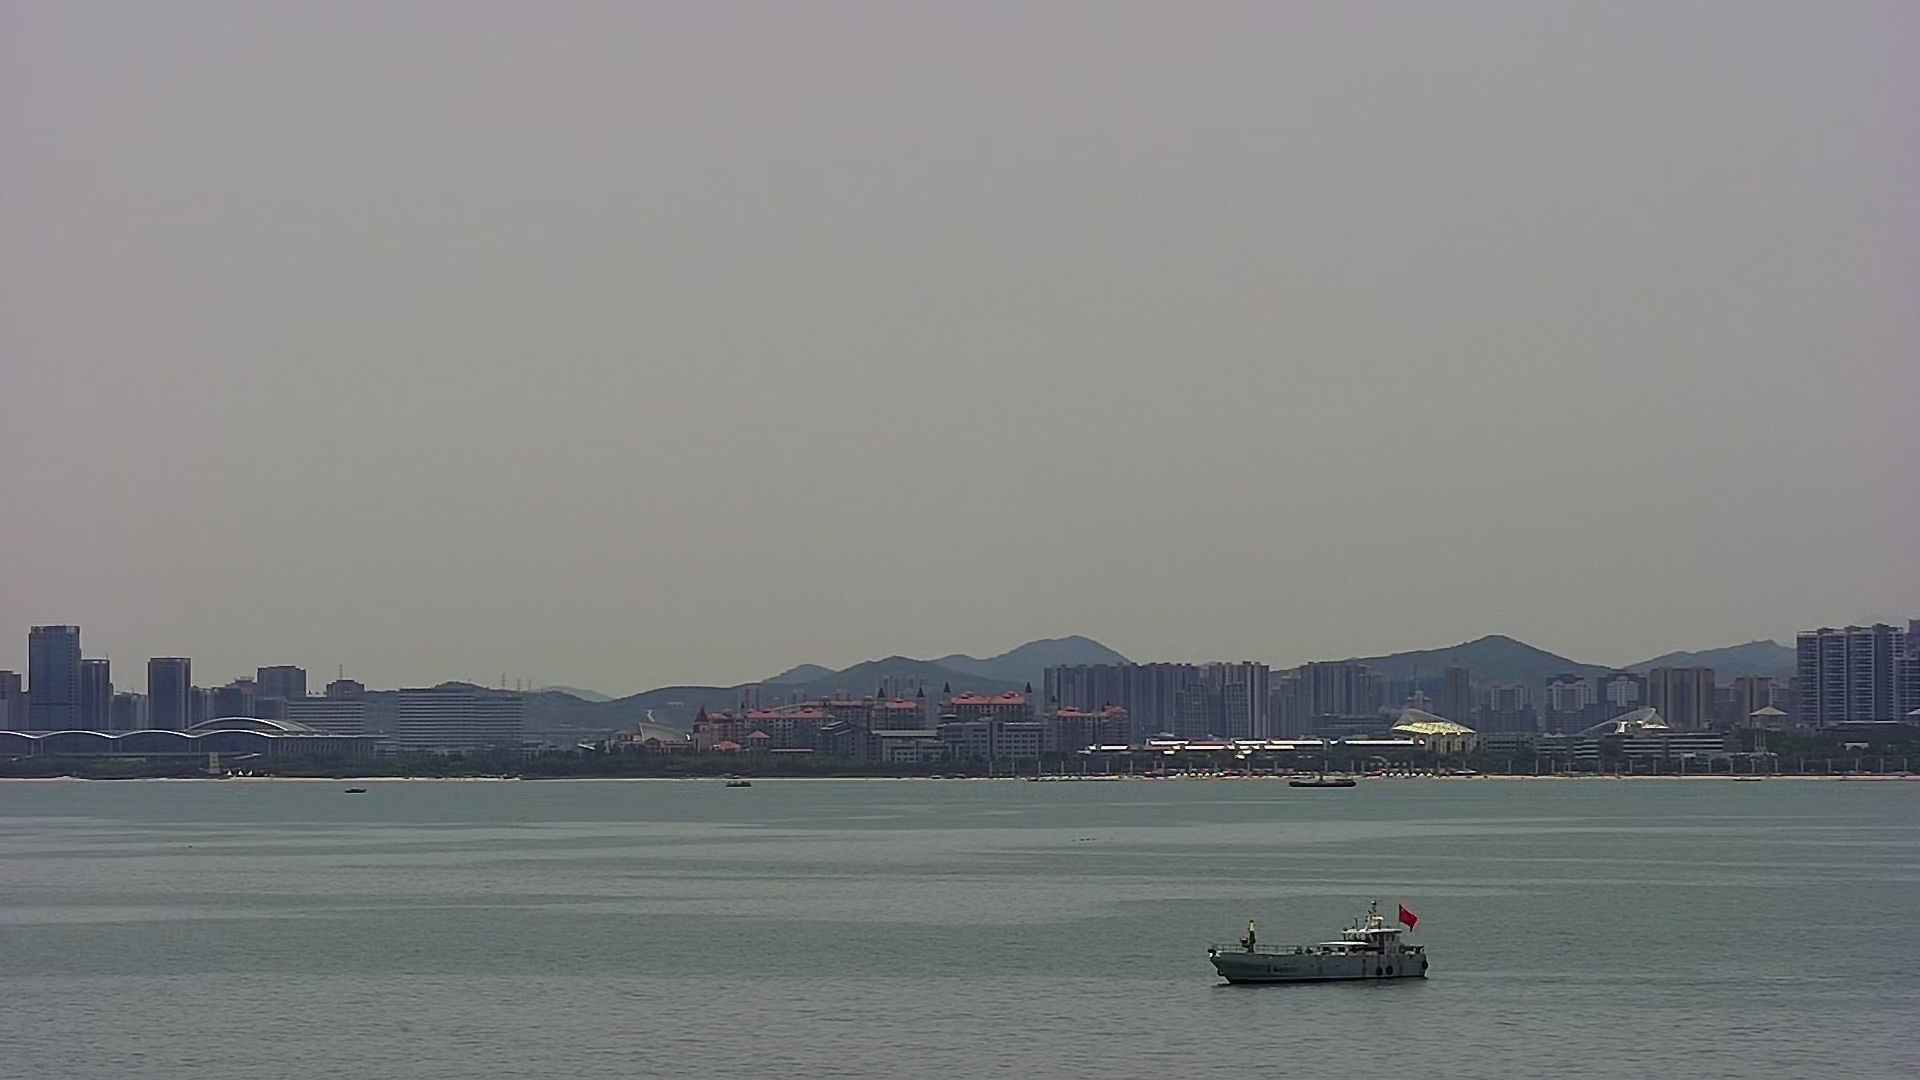ship: (1204, 899, 1433, 990)
